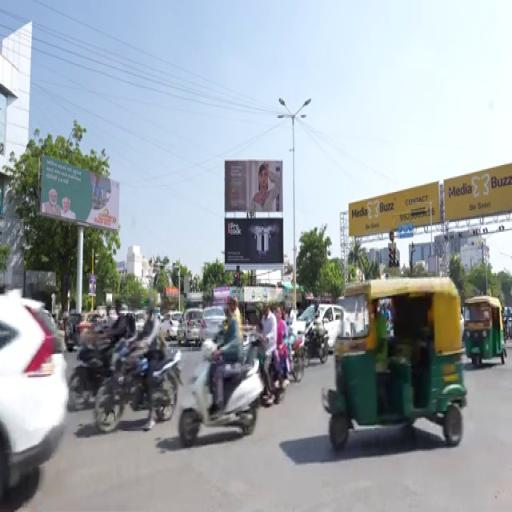Car: (0, 291, 68, 500), (291, 305, 343, 351), (178, 308, 203, 347), (201, 306, 225, 341), (65, 312, 84, 351), (290, 306, 314, 335), (159, 312, 182, 341), (135, 311, 147, 332), (44, 309, 56, 329), (460, 313, 464, 339)
